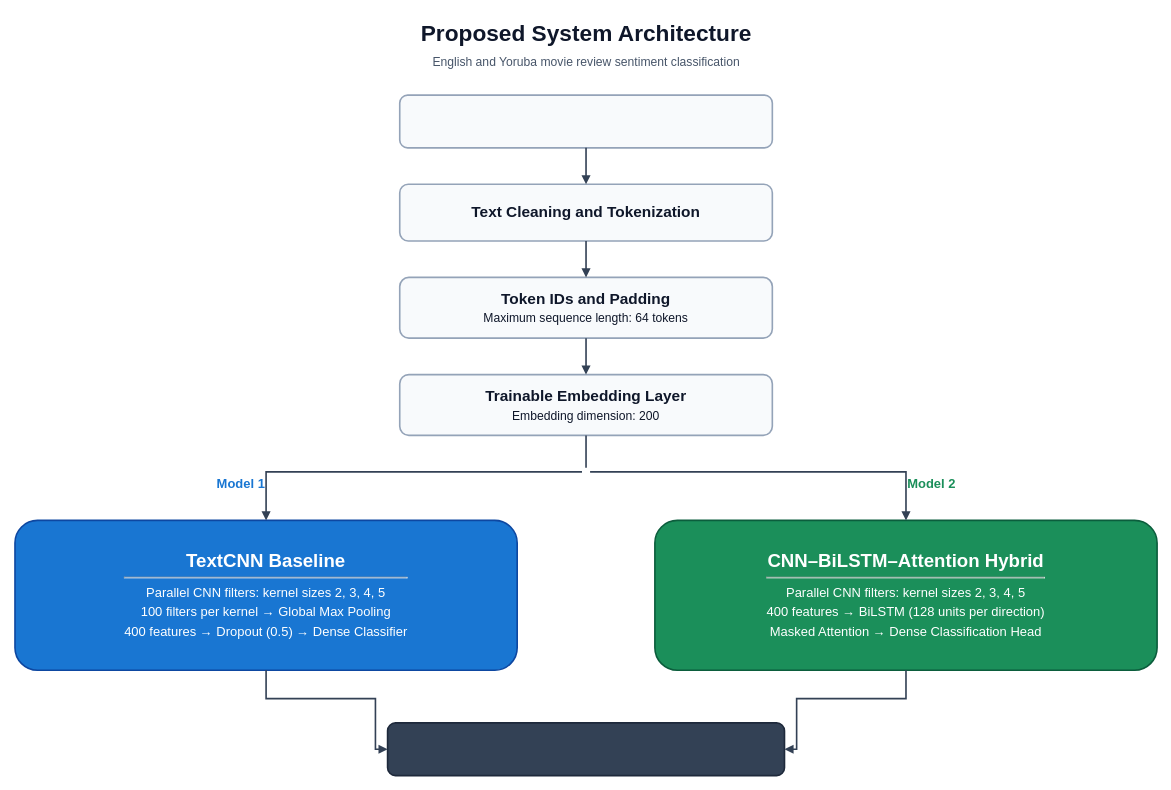
The diagram is 1171 pixels wide and 790 high, and some of its shapes have lost their labels. The shapes that lost their labels are listed below. From the top down, each one's centre as x and y in pixels, then its label:
At pixel 586 121: "Raw Movie Review".
At pixel 585 749: "Sentiment Output: Positive or Negative".
